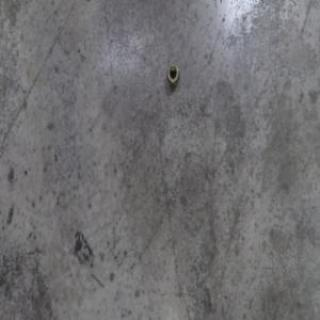Nuttrack_idkeyframe: (165, 61, 179, 88)
